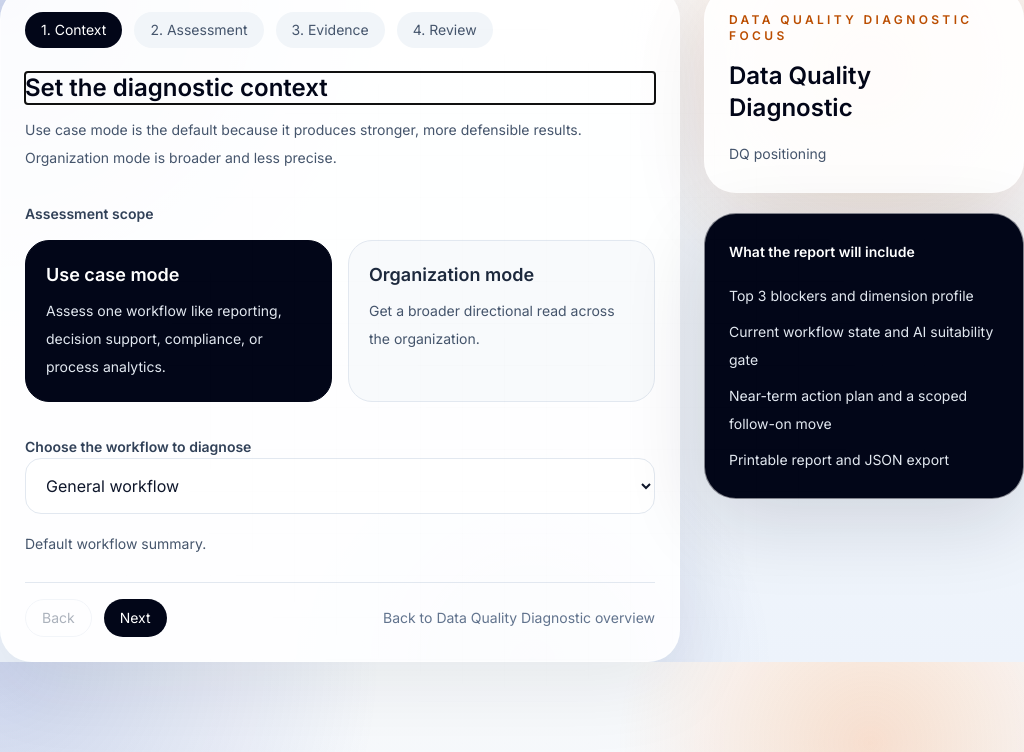
Test: AssessmentFlow › lets users skip the optional evidence step
Click the button "Next" at x=135, y=618, box [104,599,167,637]
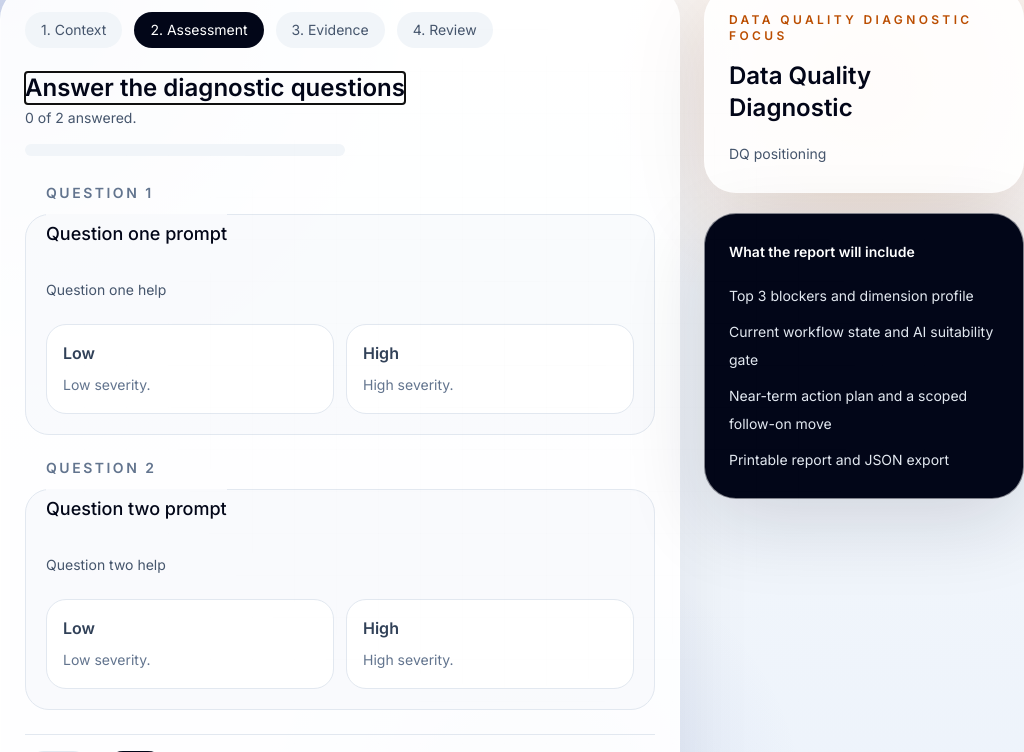
Now the text "Question one prompt" is shown, box [46,223,227,244]
Click the radio button labelled "High High severity." below "Question one help" at x=381, y=353, box [346,324,634,414]
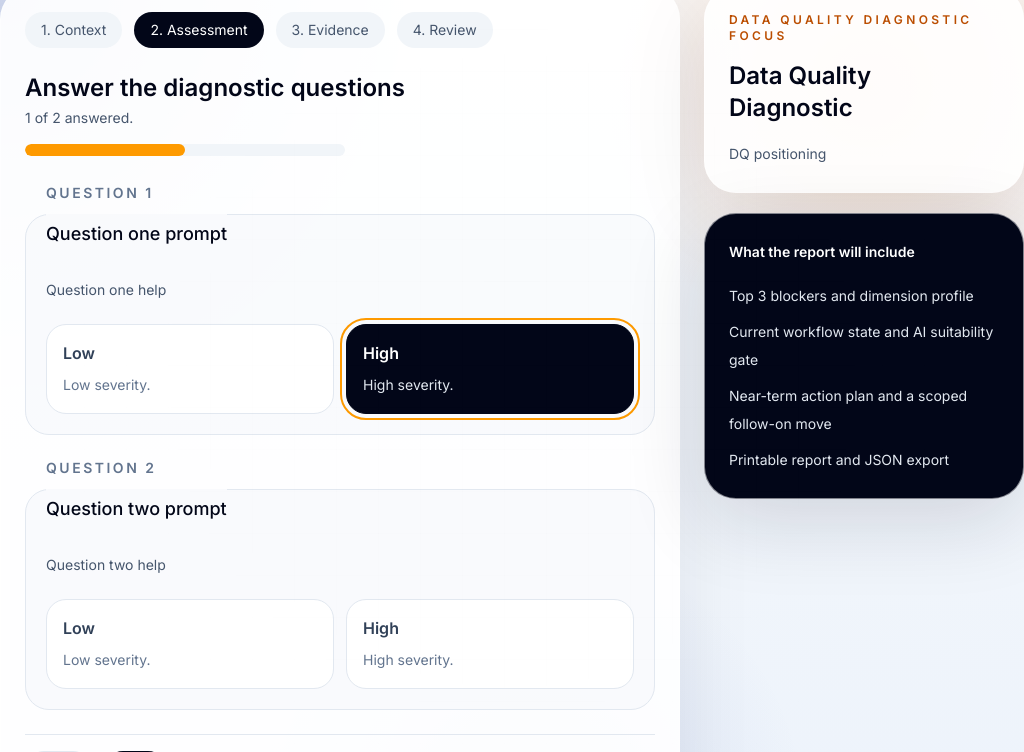
Now the text "Question two prompt" is shown, box [46,498,227,519]
Click the radio button labelled "High High severity." below "Question two help" at x=381, y=628, box [346,599,634,689]
(page scrolled)
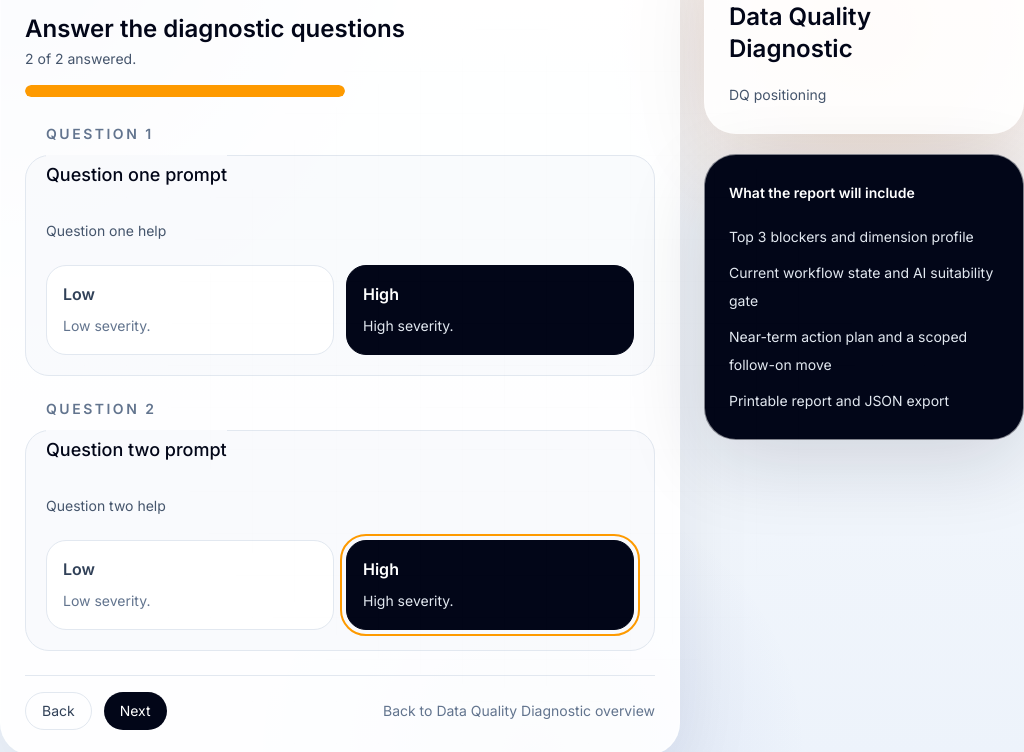
Click the button "Next" at x=135, y=711, box [104,692,167,730]
(page scrolled)
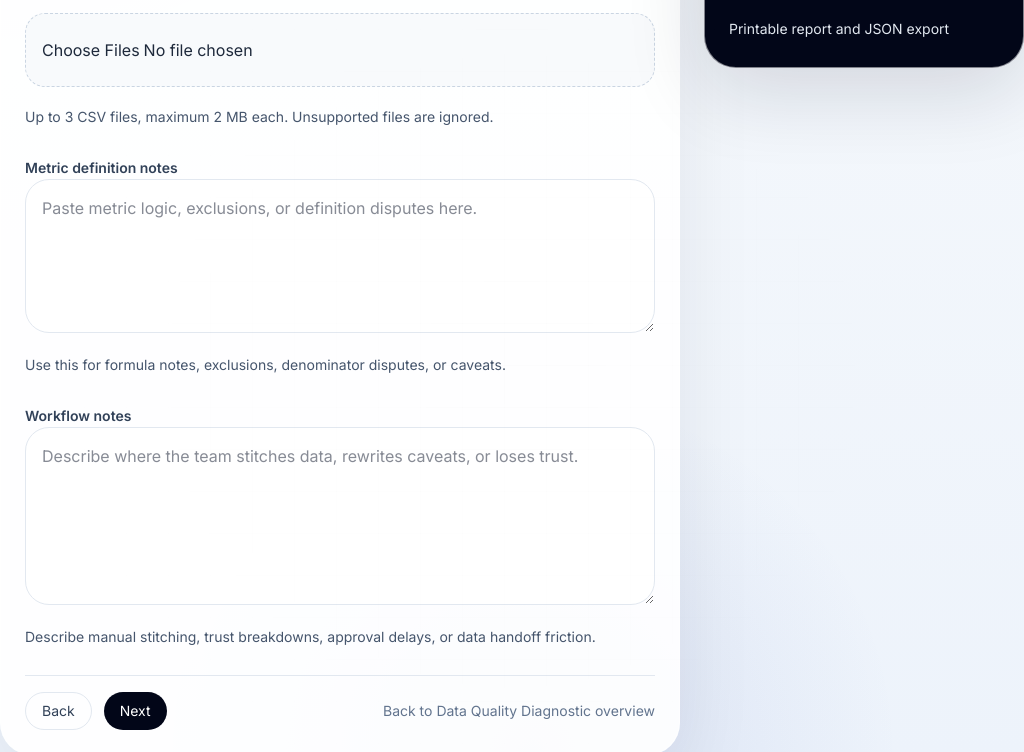
Click the button "Next" at x=135, y=711, box [104,692,167,730]
(page scrolled)
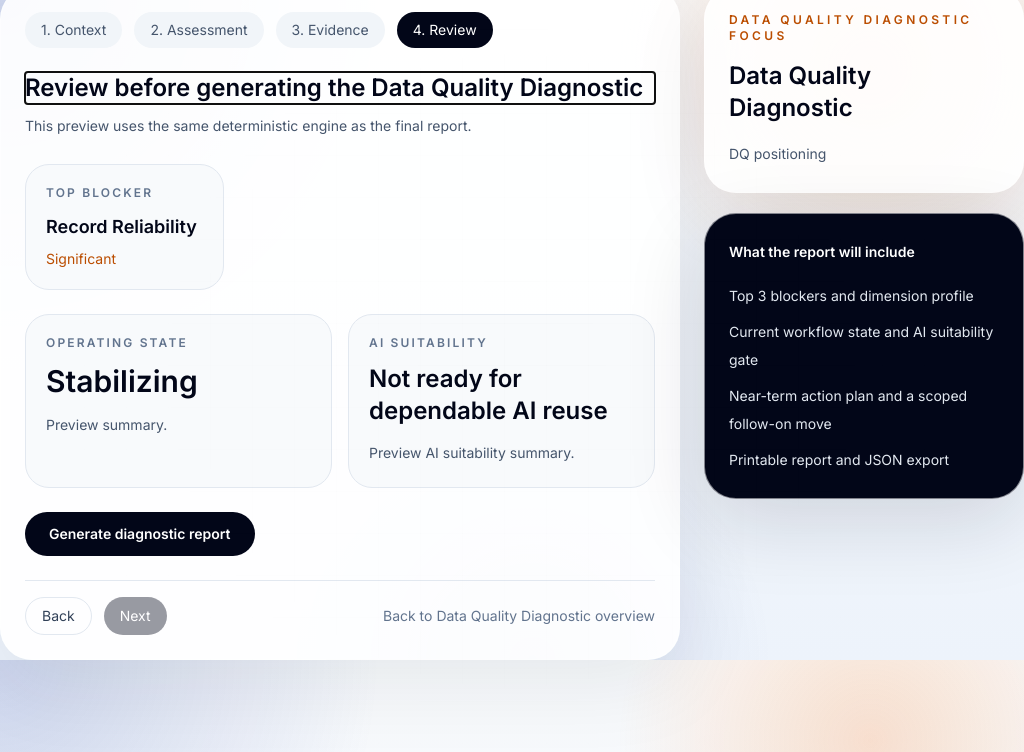
Now the heading "Review before generating the Data Quality Diagnostic" is shown, box [25,72,655,104]
Now the button "Generate diagnostic report" is enabled, box [25,512,254,556]
